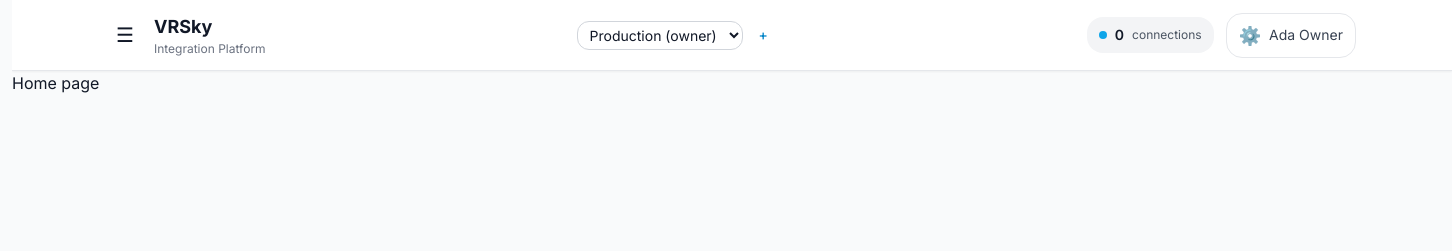
Test case: Header user menu › opens with the user details and closes on a click outside
The image size is (1452, 251).
Click the button with aria-label "Open user menu": (1291, 35) [1226, 12, 1356, 58]
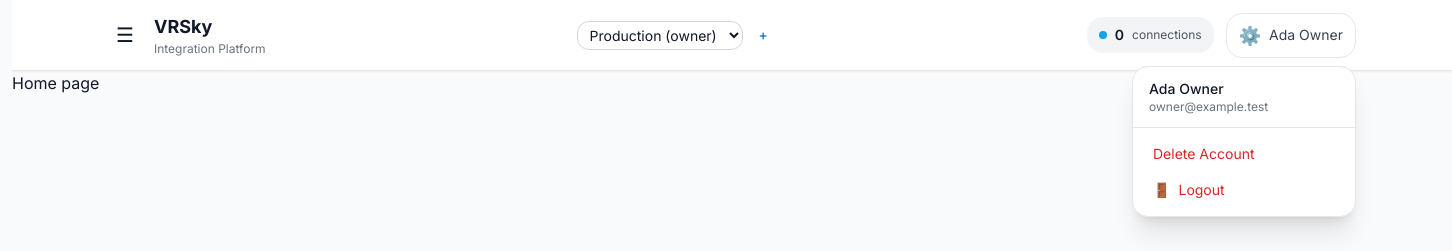
Check: the text "owner@example.test" is shown, box [1149, 98, 1268, 114]
Check: the button "🚪 Logout" is shown
Note: A click inside the menu keeps it open.
Press the mouse on the button "🚪 Logout": (1244, 190) [1141, 172, 1347, 208]
Press the mouse on the text "Home page": (56, 83) [12, 73, 99, 93]
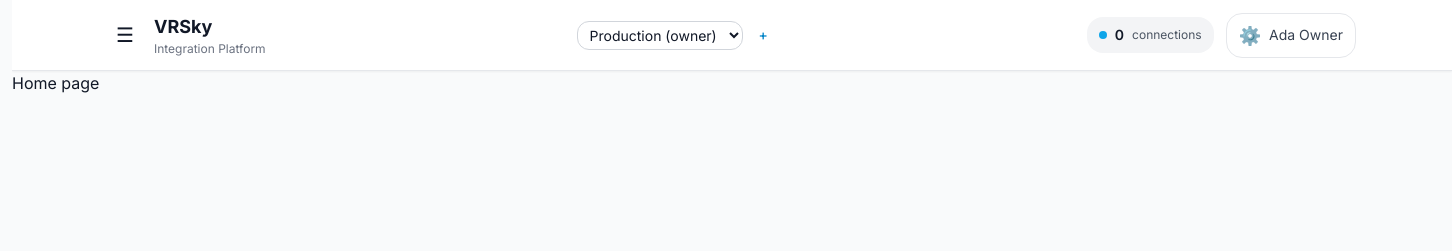
Check: the button "Logout" is gone
